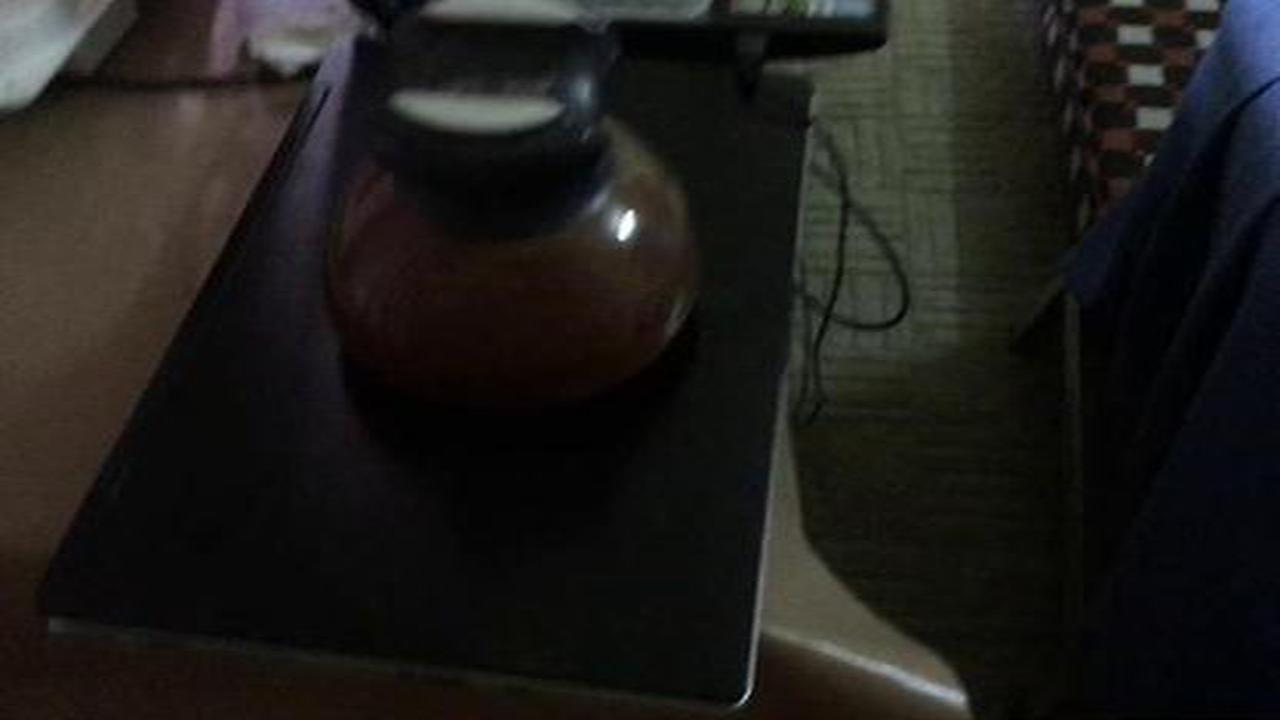insulator_pin: (293, 13, 724, 426)
